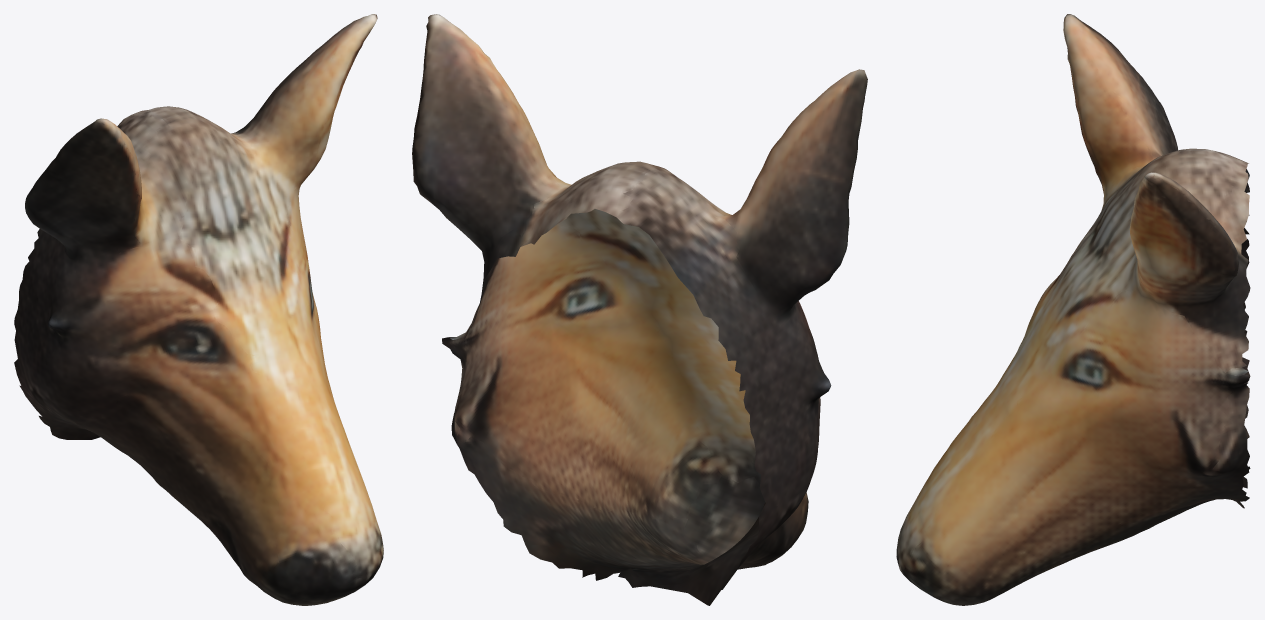
The model's file is caballo.glb.
3 views of the same model, side by side, from view 1: azimuth 30°, elevation 25°; view 2: azimuth 150°, elevation 25°; view 3: azimuth 270°, elevation 25° (orthographic). The views are drawn at different scales.
Visible parts, largest first — view 1: mesh; view 2: mesh; view 3: mesh.
Part boxes in pixels (bbox=[...]): mesh: bbox=[14, 14, 383, 605]; mesh: bbox=[412, 14, 867, 605]; mesh: bbox=[896, 14, 1250, 605].
Bounding box in the file's own units: 1.06 × 1.41 × 0.8996.
1 material, 1 textured.
